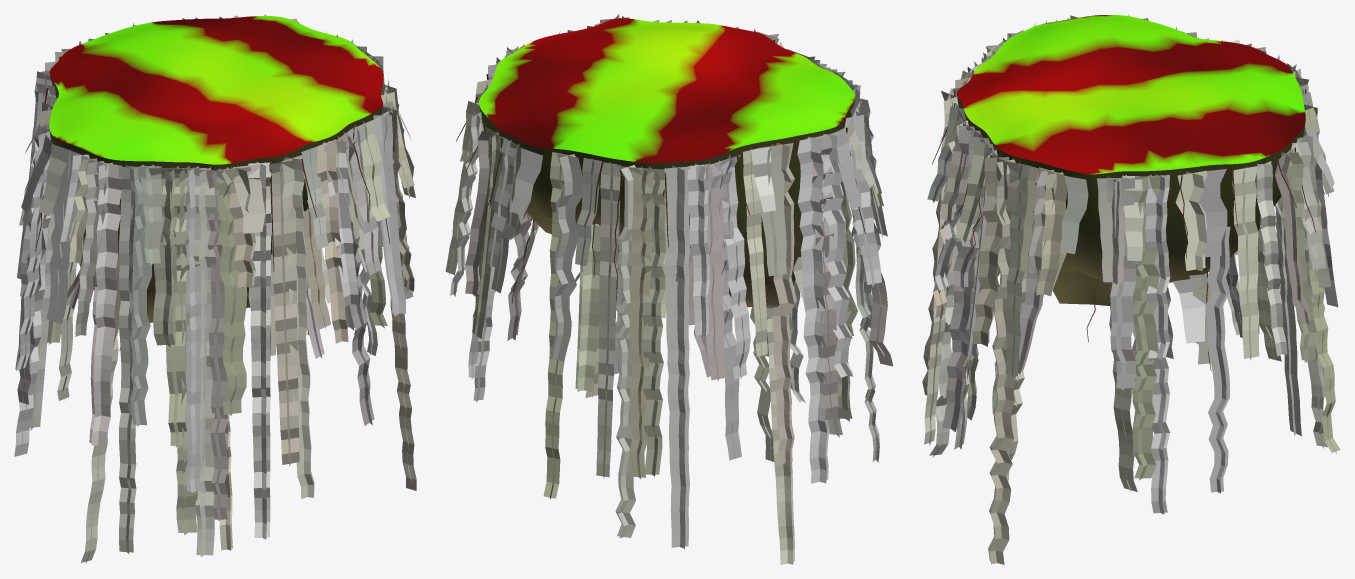
Rendered from SM_H12_Floater06.fbx.
The picture shows the model from 3 angles, left to right: view 1: azimuth 30°, elevation 25°; view 2: azimuth 150°, elevation 25°; view 3: azimuth 270°, elevation 25°; orthographic projection. The views are drawn at different scales.
Visible parts, largest first — view 1: SM_H12_Floater06_Ivy, SM_H12_Floater06; view 2: SM_H12_Floater06_Ivy, SM_H12_Floater06; view 3: SM_H12_Floater06_Ivy, SM_H12_Floater06.
Boxes of the visible parts, x1,y1,x2,y2 form: SM_H12_Floater06_Ivy: [14, 14, 416, 563]; SM_H12_Floater06: [49, 16, 383, 324]; SM_H12_Floater06_Ivy: [445, 14, 893, 564]; SM_H12_Floater06: [479, 18, 855, 307]; SM_H12_Floater06_Ivy: [922, 14, 1340, 564]; SM_H12_Floater06: [957, 15, 1305, 305].
Size of the model in its own units: 29.85 by 34.62 by 28.16.
